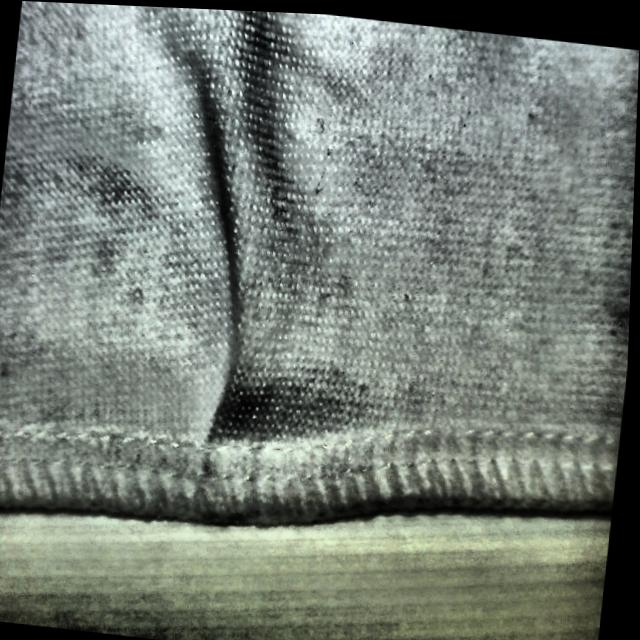seam: (158, 217, 330, 534)
